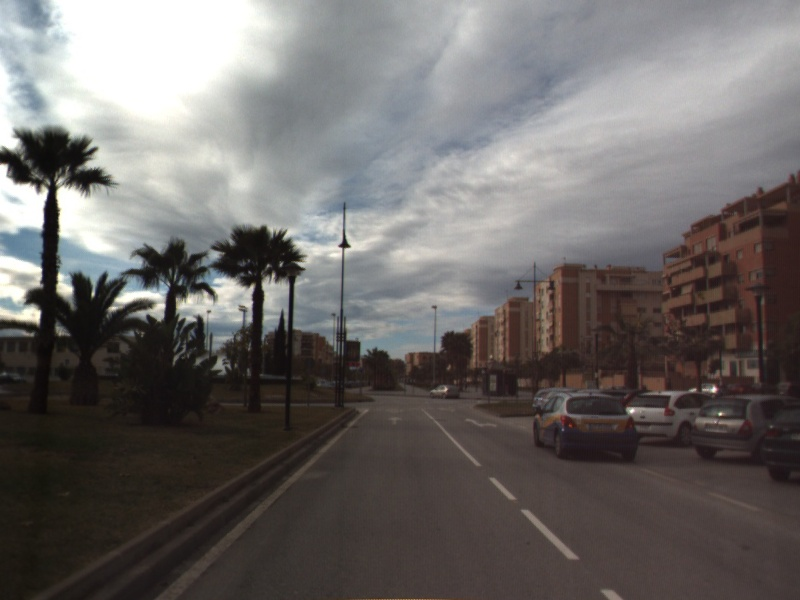STRAIGHT: (386, 414, 404, 427)
STRAIGHT_RIGHT: (463, 416, 498, 429)
